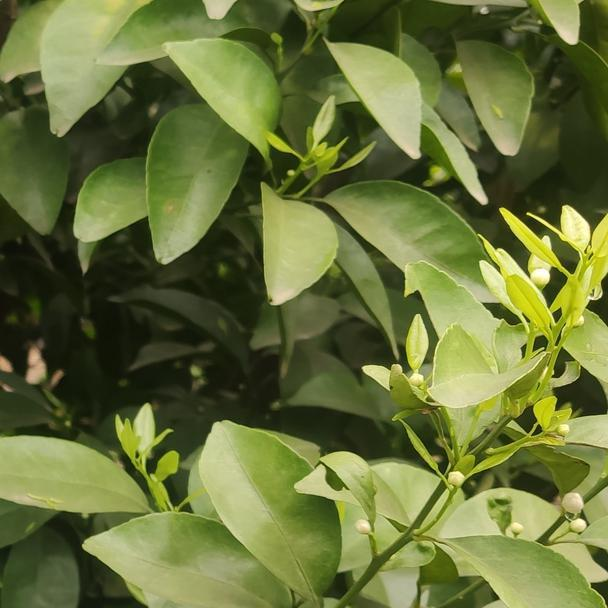shoot: (500, 206, 608, 373), (109, 407, 185, 518)
